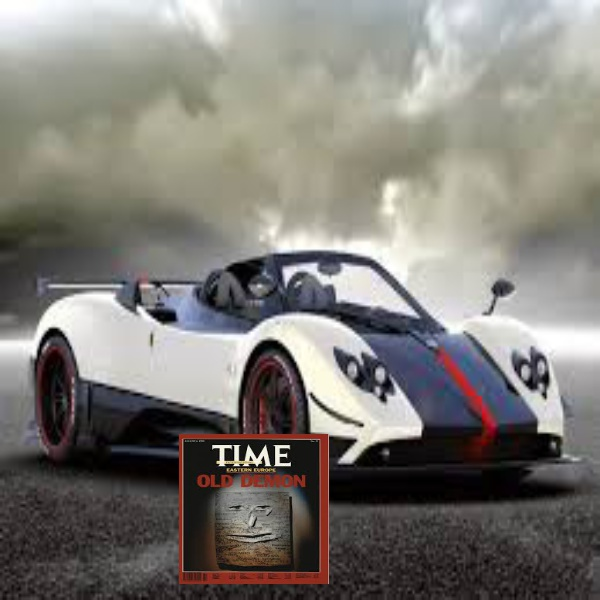time_cover: (172, 425, 328, 571)
